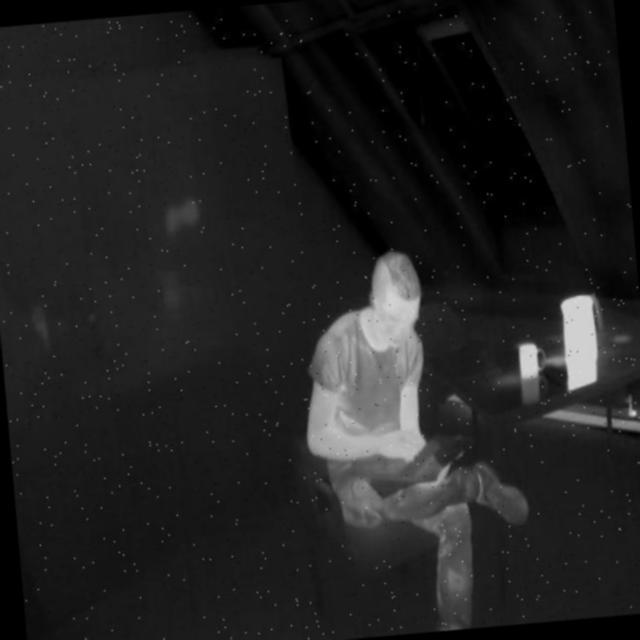person: (288, 235, 541, 640)
